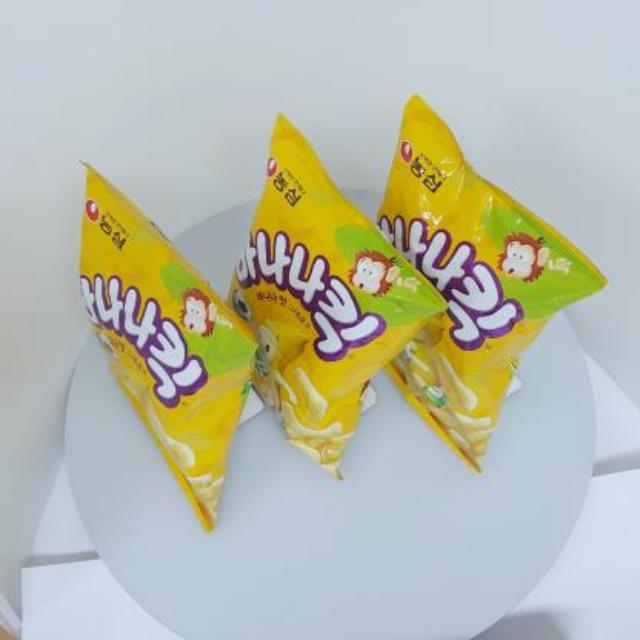snack_bag: (65, 80, 617, 550)
